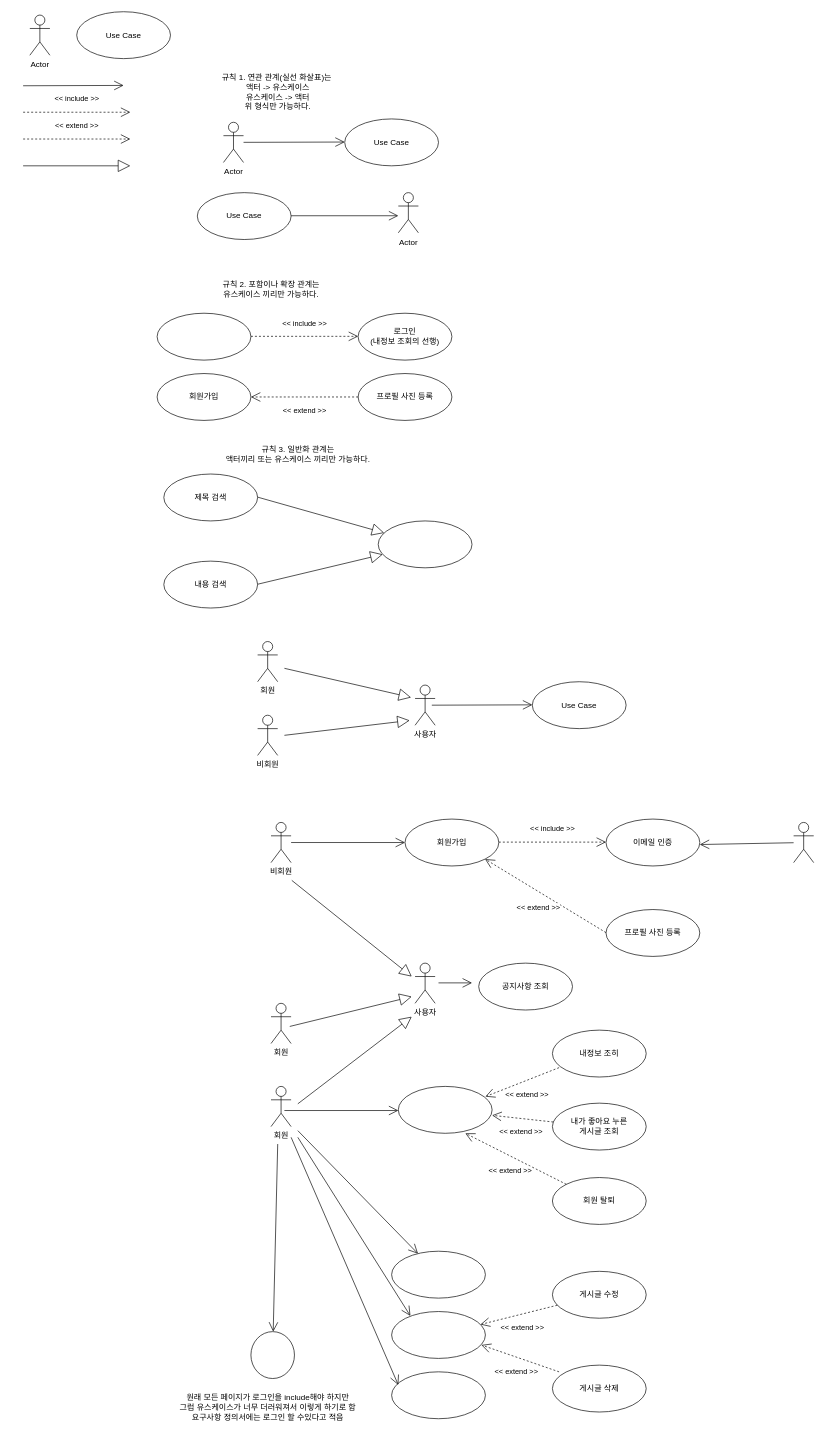
Some shapes in this 834 by 1439 pixel diagram are drawn without their labels. Here are the shapes that lost their labels. From the top down, the centre of each, then its label:
the point at 203,336: 내정보 조회
the point at 425,544: 개시글 검색
the point at 803,842: Gamil 서버
the point at 445,1109: 마이페이지
the point at 438,1274: 자유게시판 목록 조회
the point at 438,1334: 자유게시판 상세 조회
the point at 272,1355: 로그인
the point at 438,1395: 자유게시판 글 자석
